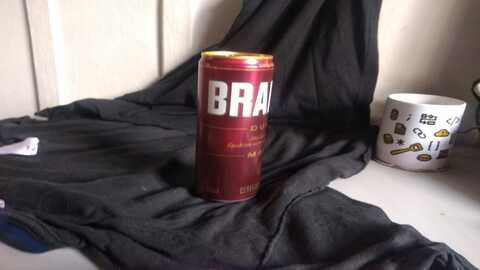duplo_malte: (191, 50, 273, 201)
